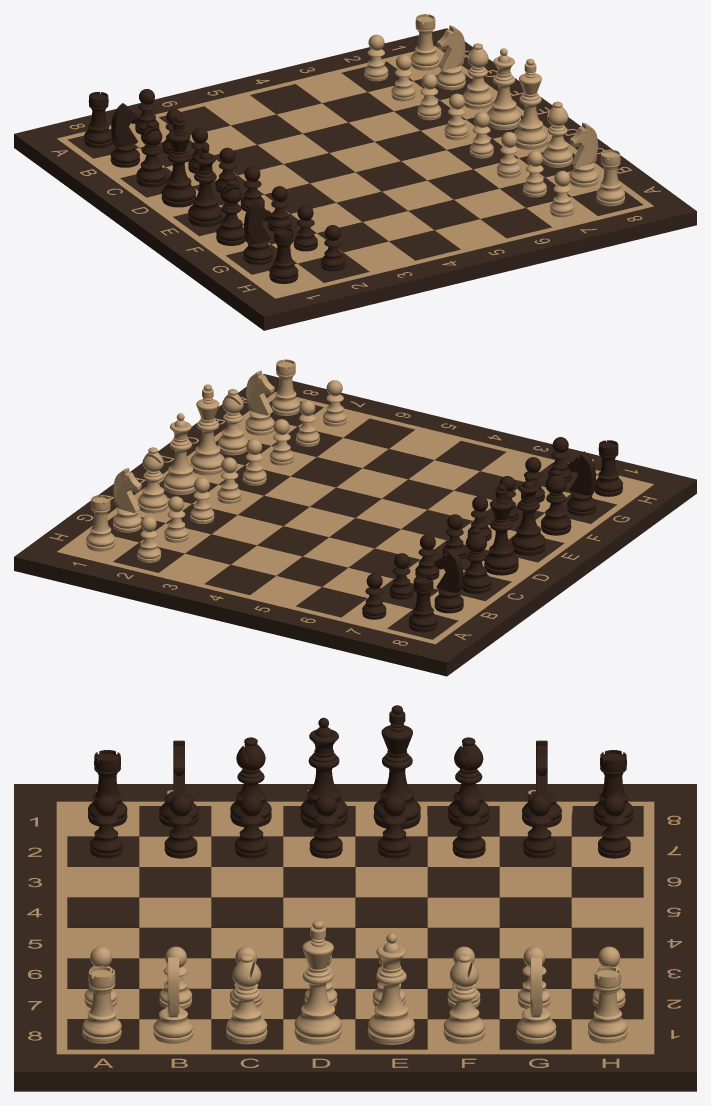
Rendered from chess_borad.glb.
The picture shows the model from 3 angles, top to bottom: view 1: azimuth 30°, elevation 25°; view 2: azimuth 150°, elevation 25°; view 3: azimuth 270°, elevation 25°; orthographic projection. The views are drawn at different scales.
Parts seen in each view (by area): view 1: Body1, Body2, Body36, Body3, object 62, object 40, object 55, object 37, object 41, object 44, object 67, object 60 (+23 smaller); view 2: Body1, Body2, Body36, Body3, object 62, object 40, object 55, object 37, object 41, object 44, object 67, object 60 (+22 smaller); view 3: Body1, Body2, Body36, Body3, object 40, object 37, object 62, object 55, object 45, object 39, object 42, object 43 (+20 smaller).
Part boxes in pixels (x1,y1,x2,y2): Body1: [14, 28, 696, 330]; Body2: [67, 61, 643, 282]; Body36: [93, 55, 603, 293]; Body3: [57, 46, 653, 298]; object 62: [161, 116, 195, 207]; object 40: [514, 58, 547, 149]; object 55: [188, 145, 222, 226]; object 37: [487, 48, 521, 129]; object 41: [569, 122, 598, 187]; object 44: [436, 25, 465, 90]; object 67: [110, 103, 139, 167]; object 60: [243, 200, 272, 264]; Body1: [14, 374, 696, 676]; Body2: [107, 400, 616, 639]; Body36: [68, 407, 643, 628]; Body3: [57, 392, 653, 644]; object 62: [484, 484, 518, 575]; object 40: [190, 384, 224, 475]; object 55: [511, 474, 545, 555]; object 37: [163, 413, 197, 494]; object 41: [245, 370, 274, 435]; object 44: [112, 468, 141, 532]; object 67: [434, 548, 463, 613]; object 60: [567, 451, 596, 515]; Body1: [14, 784, 696, 1091]; Body2: [67, 806, 643, 1049]; Body36: [67, 806, 643, 1049]; Body3: [56, 801, 654, 1054]; object 40: [294, 920, 341, 1044]; object 37: [367, 933, 414, 1044]; object 62: [373, 705, 420, 829]; object 55: [300, 717, 347, 828]; object 45: [443, 954, 484, 1044]; object 39: [226, 954, 267, 1044]; object 42: [588, 966, 627, 1043]; object 43: [82, 966, 121, 1043].
Size of the model in its own units: 0.32 by 0.069 by 0.32.
